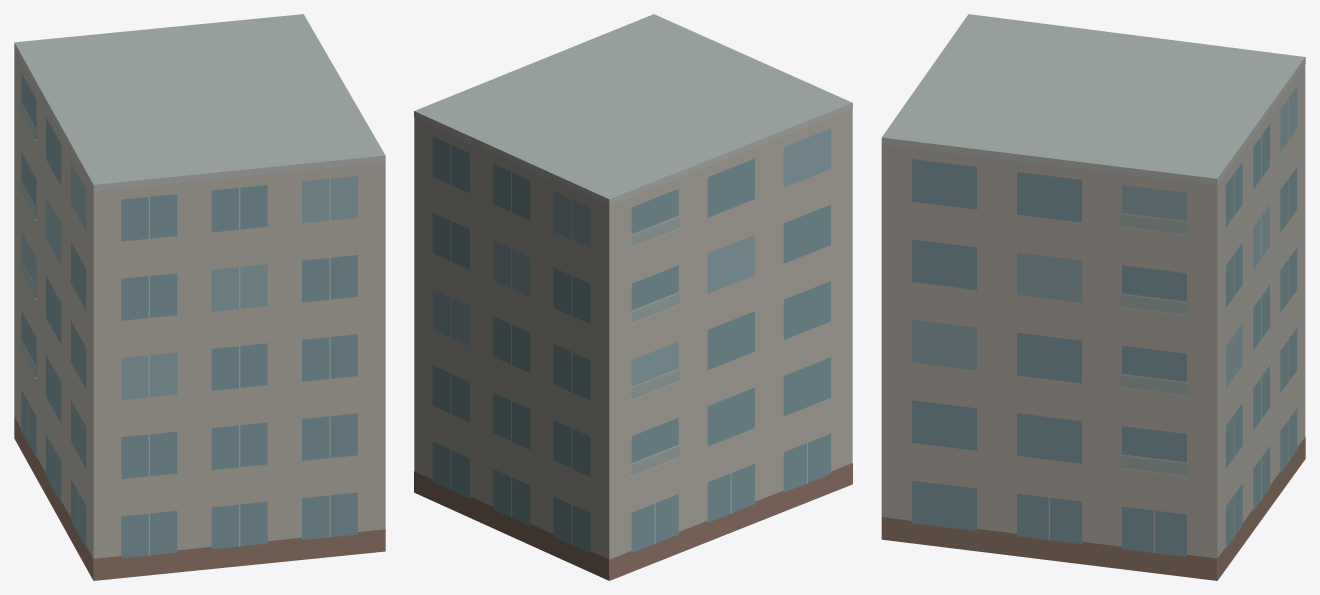
File: survey-upis-32943440.glb
3 renders of one model, left to right at view 1: azimuth 30°, elevation 25°; view 2: azimuth 150°, elevation 25°; view 3: azimuth 270°, elevation 25°, orthographic. The views are drawn at different scales.
Visible parts, largest first — view 1: survey-upis-32943440.tmp; view 2: survey-upis-32943440.tmp; view 3: survey-upis-32943440.tmp.
Boxes of the visible parts, <box> form: survey-upis-32943440.tmp: <box>14,14,385,580</box>; survey-upis-32943440.tmp: <box>414,14,852,580</box>; survey-upis-32943440.tmp: <box>881,14,1305,580</box>.
Size of the model in its own units: 12.58 by 14.3 by 13.67.
